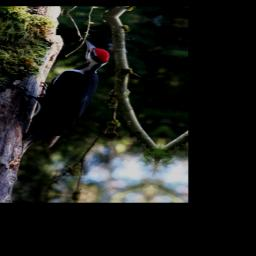Woodpecker: (0, 34, 114, 161)
